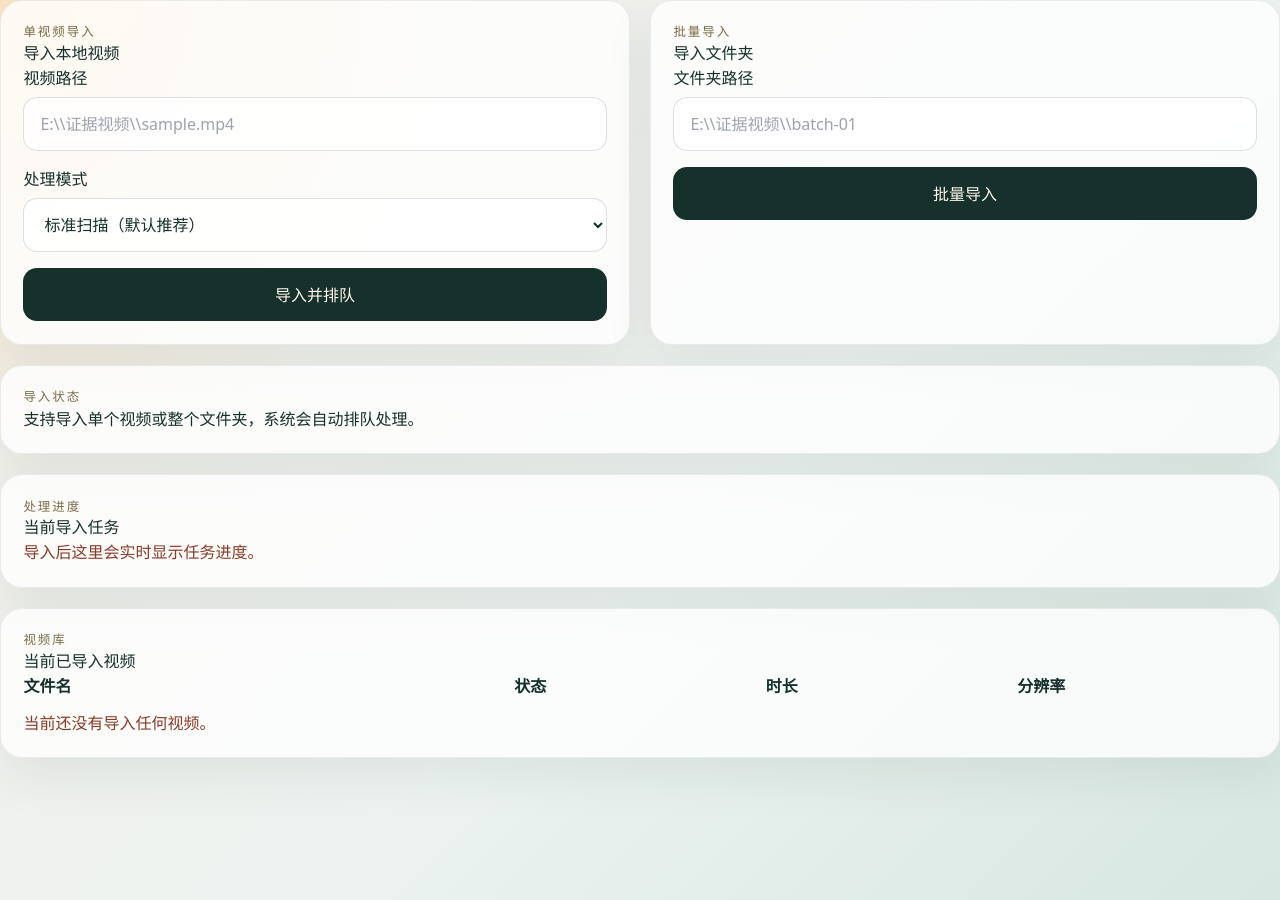
it: ImportPage › shows error message when import fails
Type "E:/missing.mp4" into the field labelled "视频路径" at point(315, 124), box [23, 96, 607, 151]
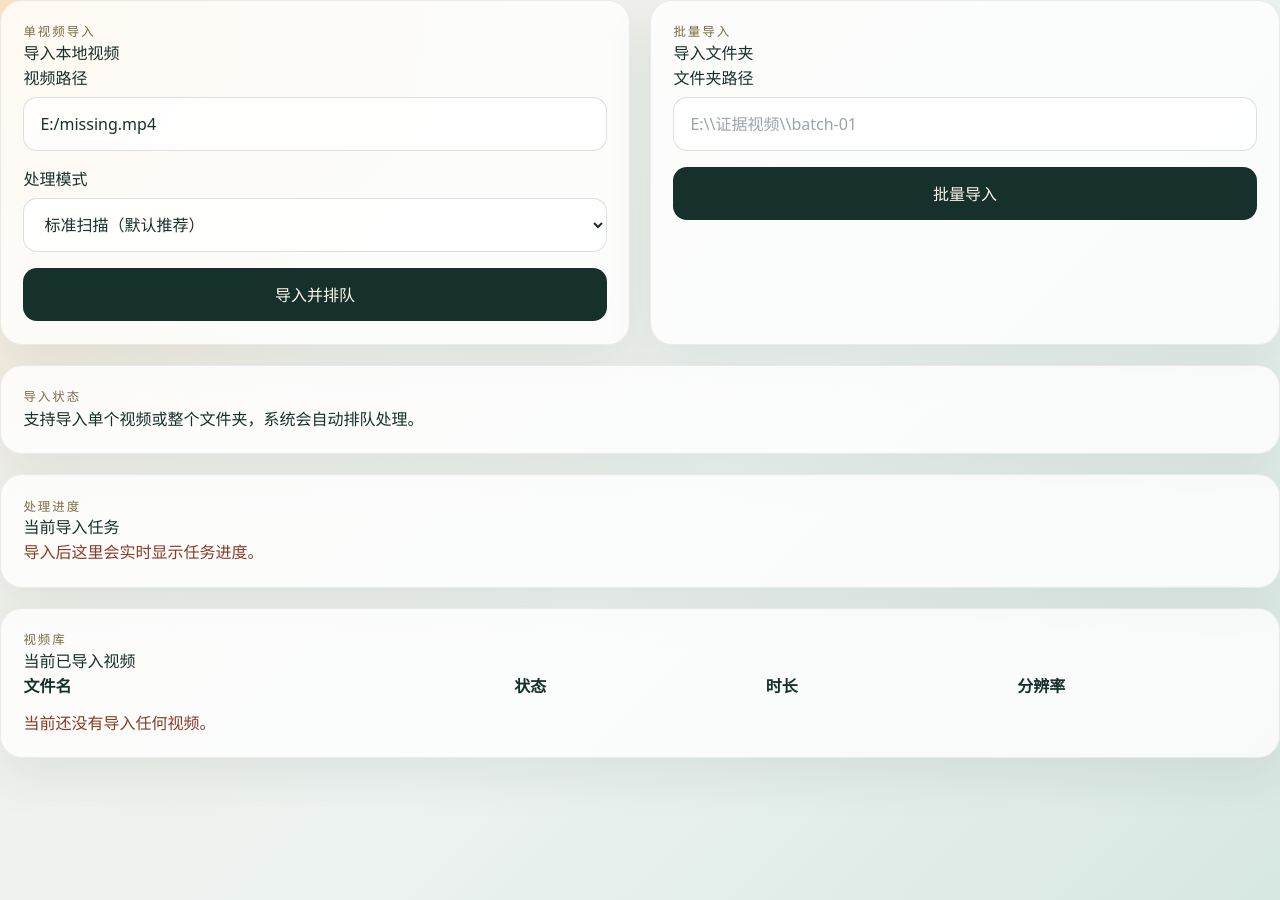
Click the button "导入并排队" at point(315, 295), box [23, 268, 607, 321]
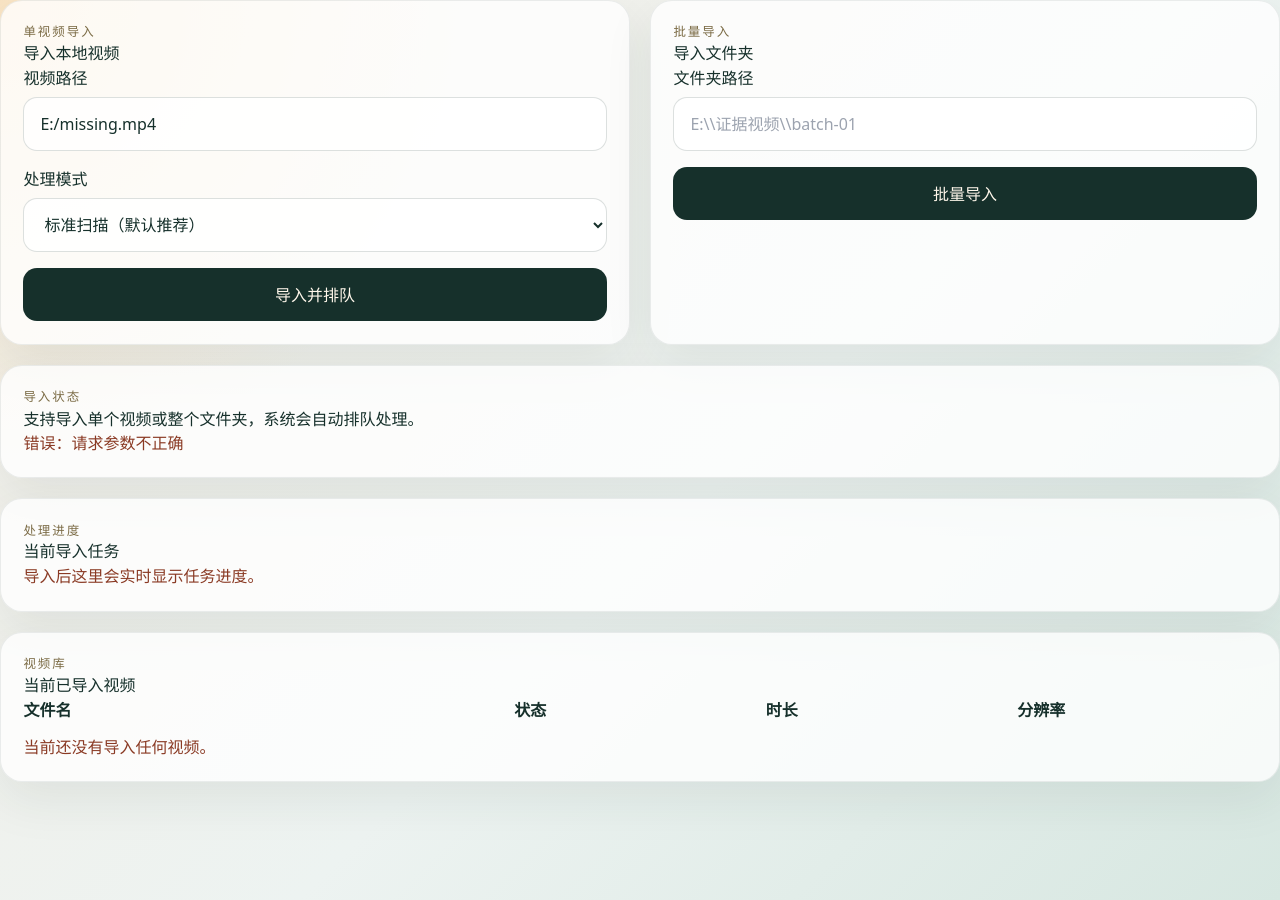
Now the text "错误：请求参数不正确" is shown, box [23, 432, 183, 454]
